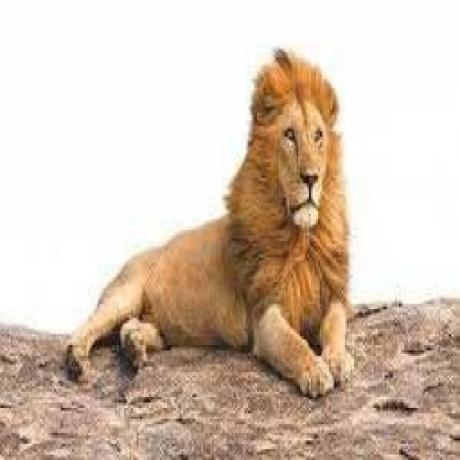Lion: (61, 46, 358, 402)
